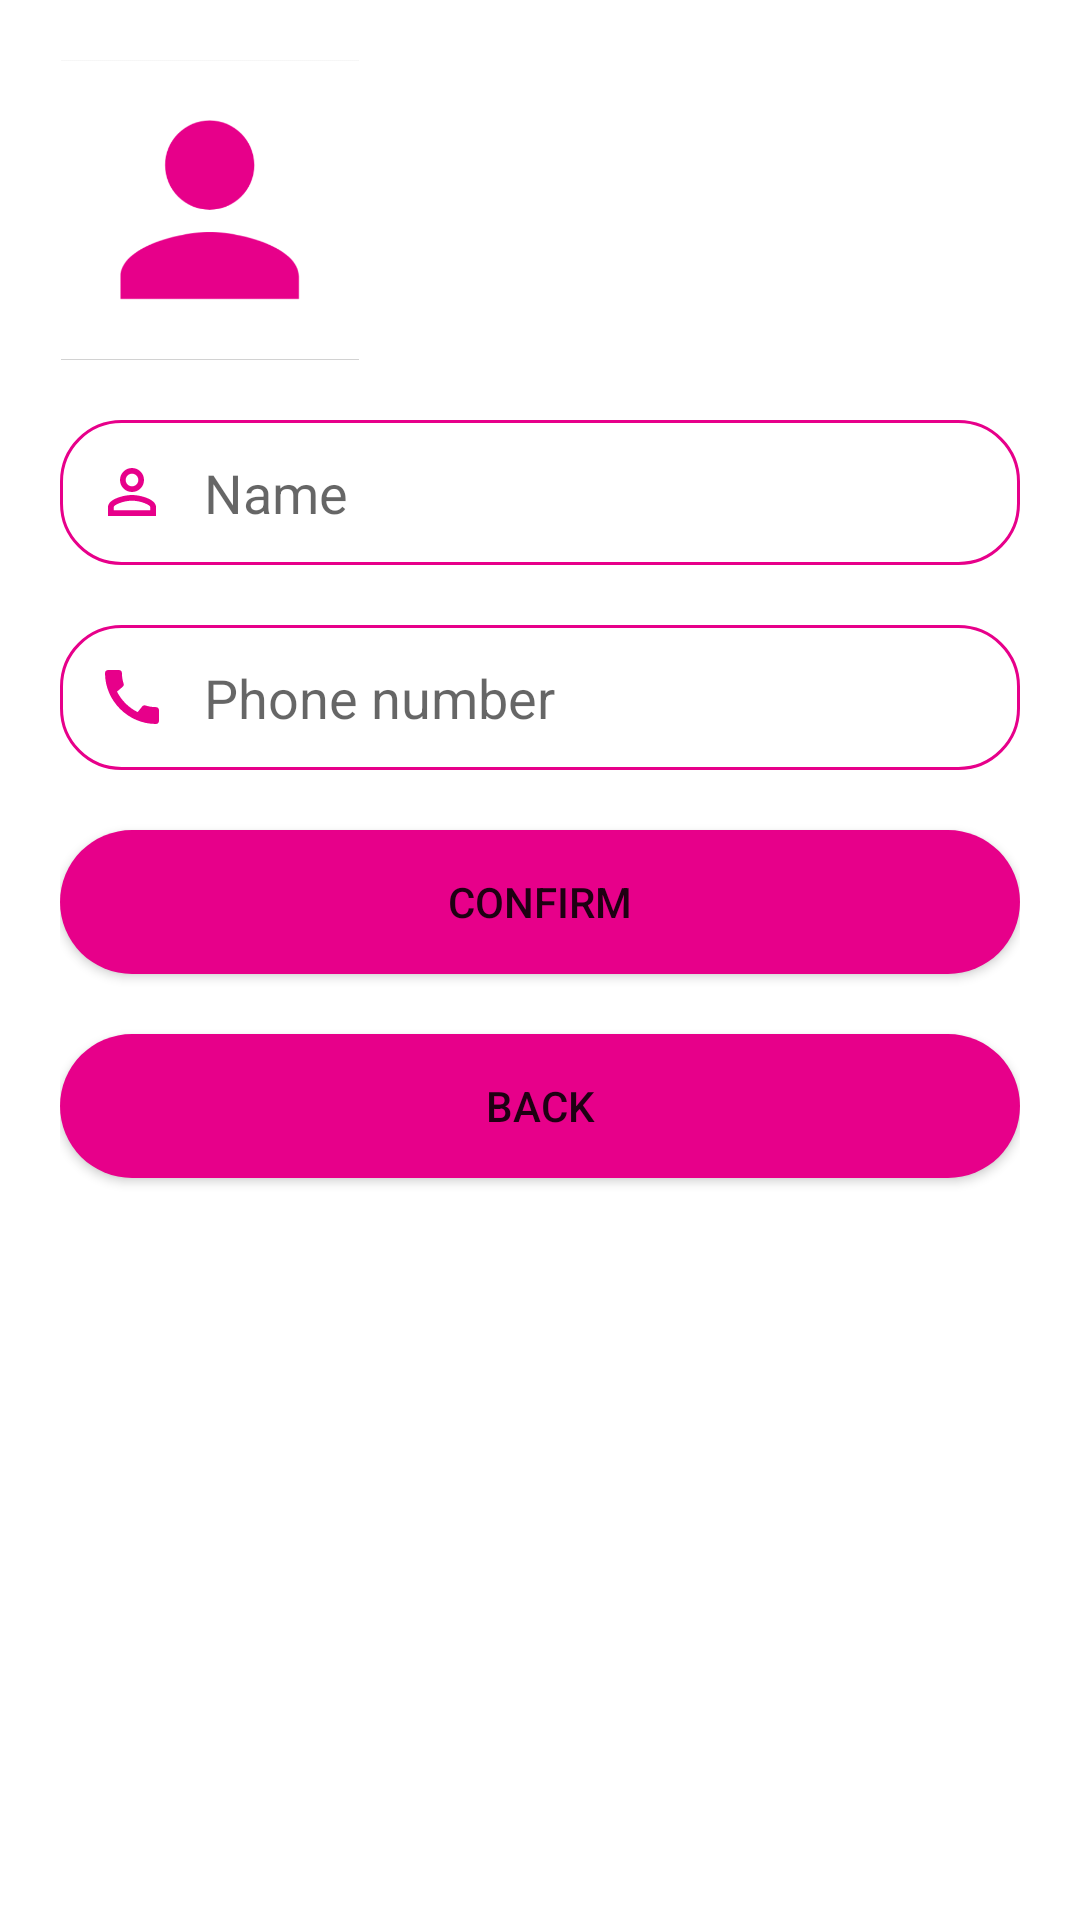

Point at icon controls on the screen. Image size 1080 x 1920, points as point (x, y).
user: point (210, 240)
